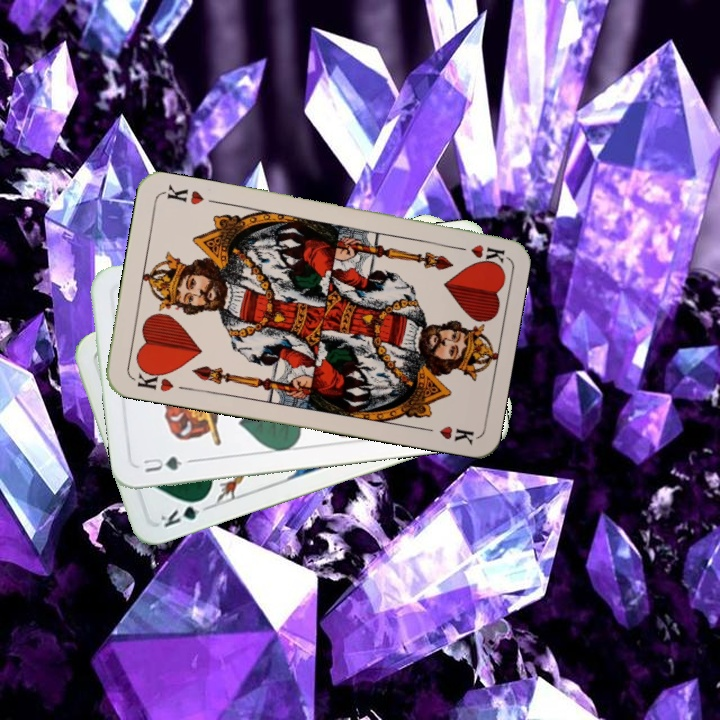GK: (156, 494, 213, 530)
GU: (139, 452, 195, 475)
HK: (446, 240, 506, 265), (129, 363, 176, 394)
